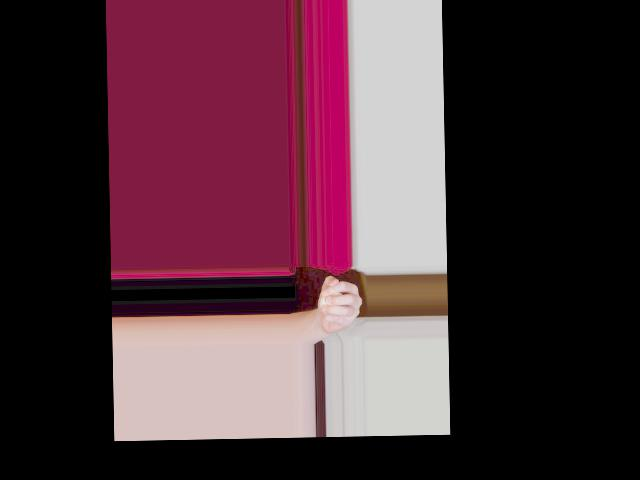egg: (319, 289, 343, 314)
